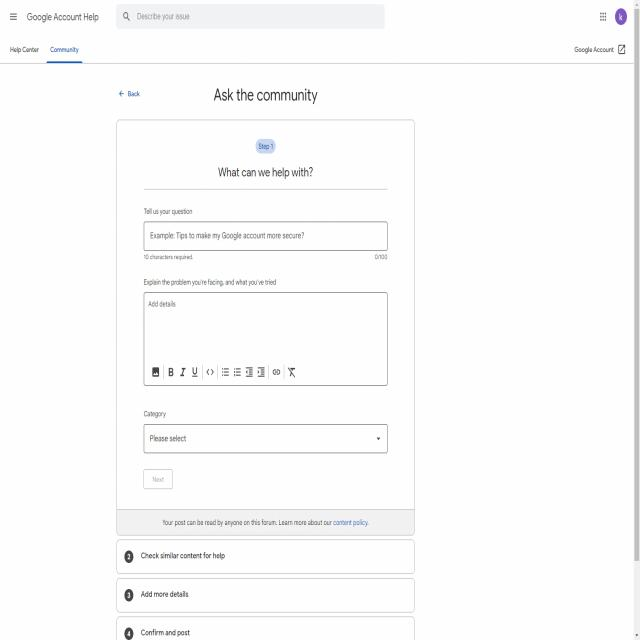menu-bar: (596, 6, 630, 28), (3, 5, 22, 28)
menu-panel: (5, 37, 84, 67)
search: (114, 2, 387, 31)
